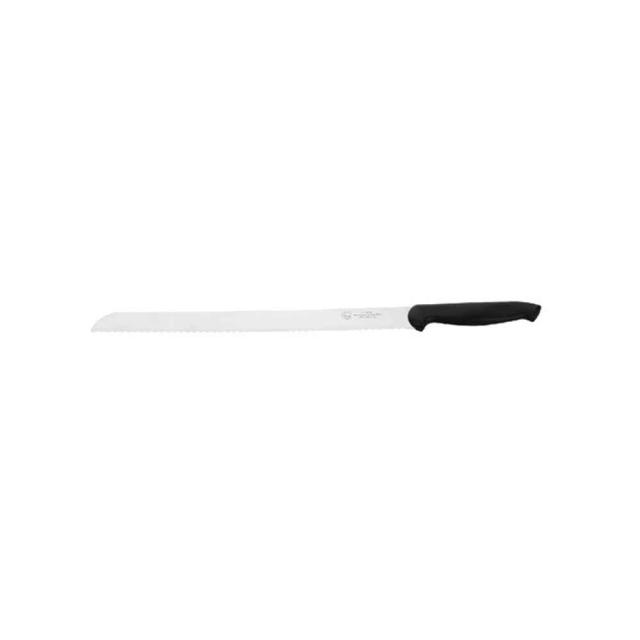Knife: (91, 300, 542, 333)
